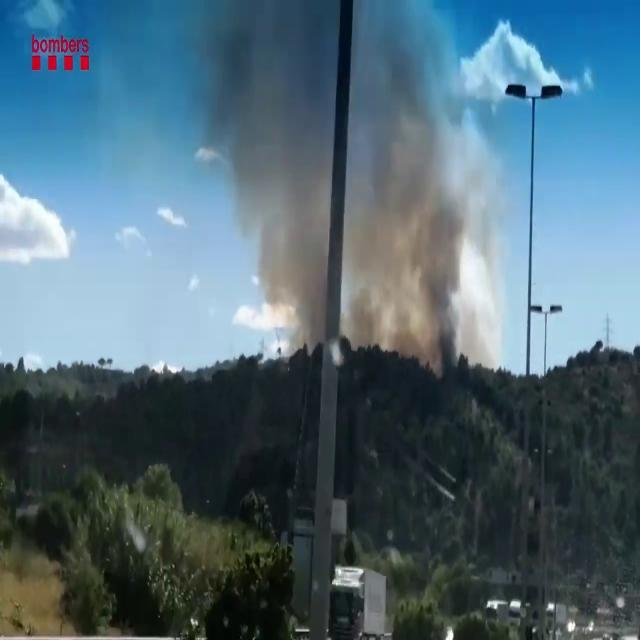Smoke: (196, 1, 480, 367)
